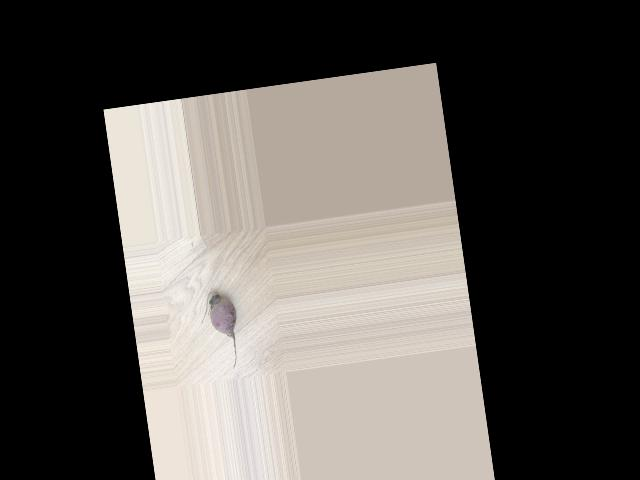beet: (197, 289, 244, 372)
